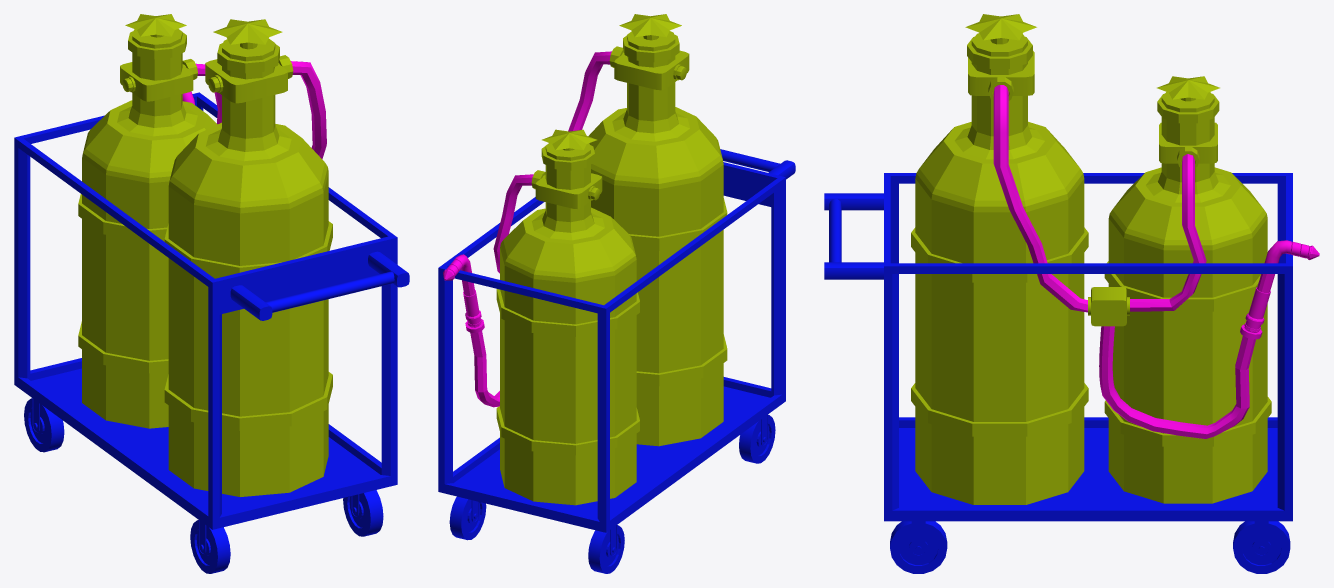
The model's file is Welding_Setup.fbx.
3 renders of one model, left to right at view 1: azimuth 30°, elevation 25°; view 2: azimuth 150°, elevation 25°; view 3: azimuth 270°, elevation 25°, orthographic. The views are drawn at different scales.
Parts seen in each view (by area): view 1: Cylinder035, Cart_Frame, Cylinder025, Tank_Big_Top, Tank_Big_Top001, Line004, Wheel_013, Wheel_015, Wheel_012; view 2: Cylinder025, Cylinder035, Cart_Frame, Line004, Tank_Big_Top, Tank_Big_Top001, Wheel_015, Wheel_013, Wheel_014; view 3: Cylinder035, Cylinder025, Cart_Frame, Line004, Tank_Big_Top, Wheel_012, Wheel_014, Tank_Big_Top001, Cylinder026.
Boxes of the visible parts, box(x1,y1,x2,y2) form: Cylinder035: box(164, 38, 332, 496); Cart_Frame: box(14, 92, 409, 529); Cylinder025: box(78, 29, 217, 428); Tank_Big_Top: box(205, 19, 293, 103); Tank_Big_Top001: box(120, 14, 197, 101); Line004: box(182, 61, 326, 159); Wheel_013: box(190, 520, 230, 573); Wheel_015: box(24, 398, 64, 452); Wheel_012: box(343, 490, 383, 536); Cylinder025: box(496, 143, 639, 505); Cylinder035: box(588, 31, 727, 446); Cart_Frame: box(438, 149, 795, 532); Line004: box(443, 51, 611, 407); Tank_Big_Top: box(609, 14, 689, 90); Tank_Big_Top001: box(531, 129, 602, 209); Wheel_015: box(588, 525, 624, 573); Wheel_013: box(739, 414, 775, 463); Wheel_014: box(449, 496, 486, 540); Cylinder035: box(911, 33, 1088, 504); Cylinder025: box(1104, 92, 1271, 503); Cart_Frame: box(824, 173, 1292, 521); Line004: box(993, 85, 1319, 438); Tank_Big_Top: box(965, 14, 1036, 100); Wheel_012: box(890, 521, 947, 573); Wheel_014: box(1233, 521, 1290, 573); Tank_Big_Top001: box(1157, 76, 1219, 168); Cylinder026: box(1088, 287, 1129, 326).
Size of the model in its own units: 0.6728 by 1.51 by 1.73.
